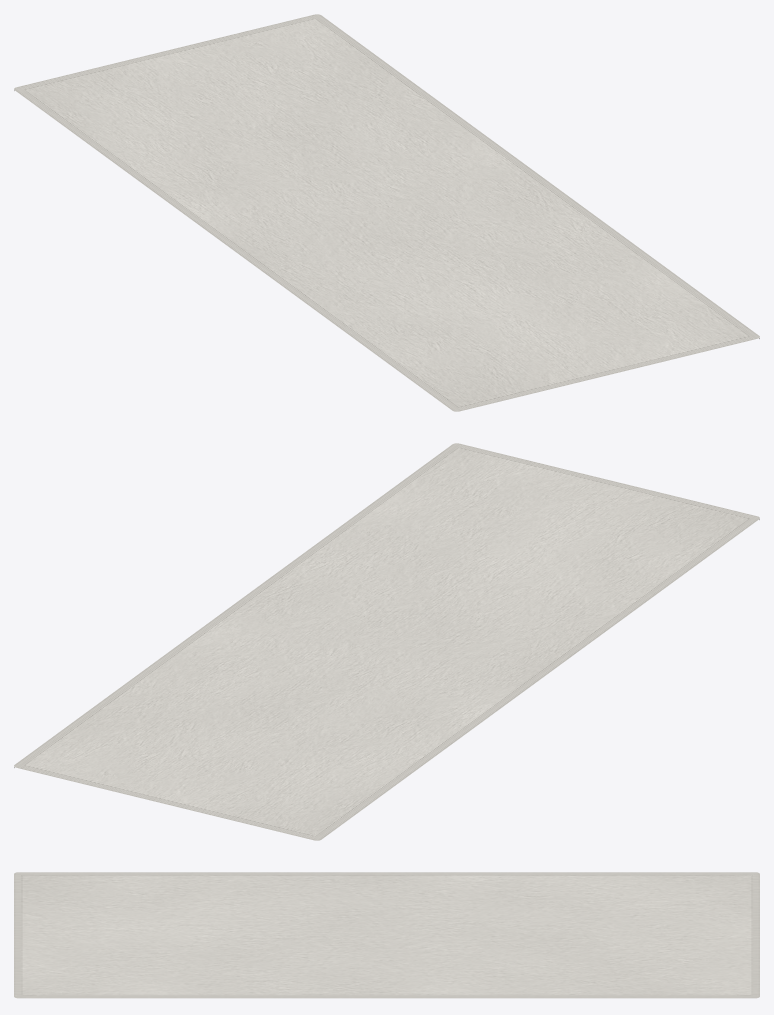
The model's file is ivory_hall.glb.
3 views of the same model, one above another, from view 1: azimuth 30°, elevation 25°; view 2: azimuth 150°, elevation 25°; view 3: azimuth 270°, elevation 25° (orthographic). The views are drawn at different scales.
Visible parts, largest first — view 1: reliv_ivory_hall; view 2: reliv_ivory_hall; view 3: reliv_ivory_hall.
Boxes of the visible parts, x1,y1,x2,y2 form: reliv_ivory_hall: (14, 14, 759, 411); reliv_ivory_hall: (14, 443, 759, 840); reliv_ivory_hall: (14, 872, 759, 998).
Bounding box in the file's own units: 1 × 0.009 × 2.5.
2 materials, 1 textured.
